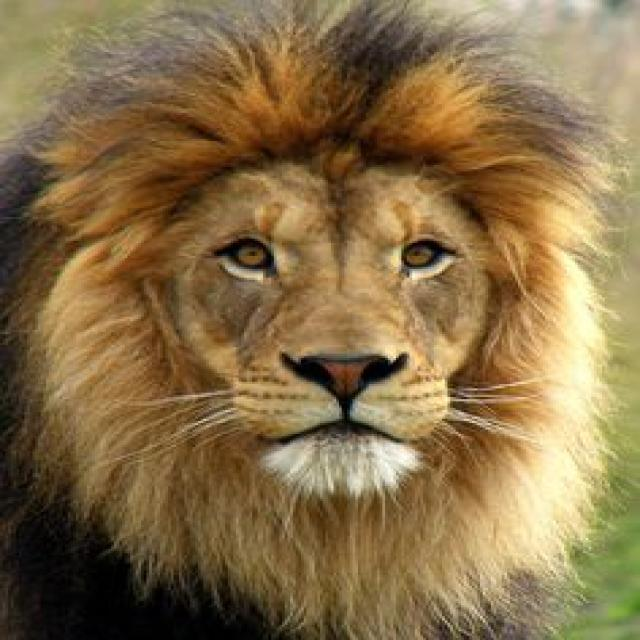lions: (3, 7, 637, 640)
